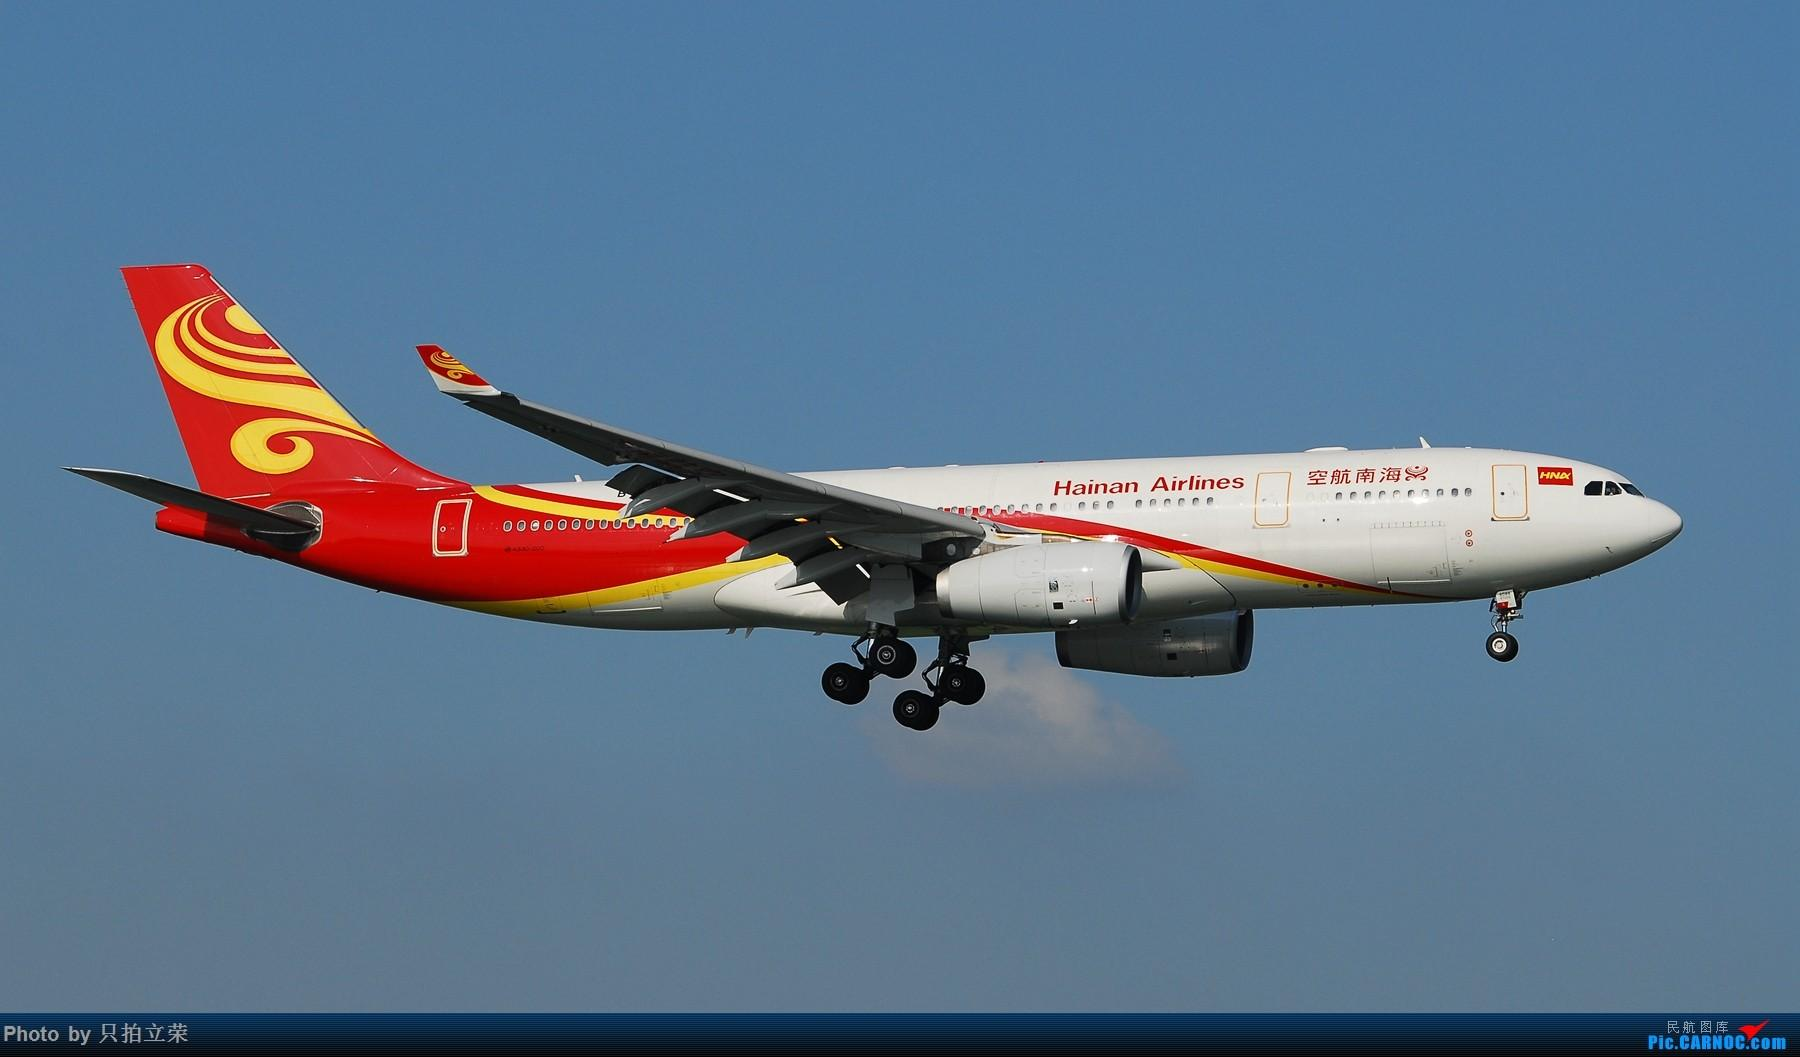airplane: (48, 238, 1698, 746)
